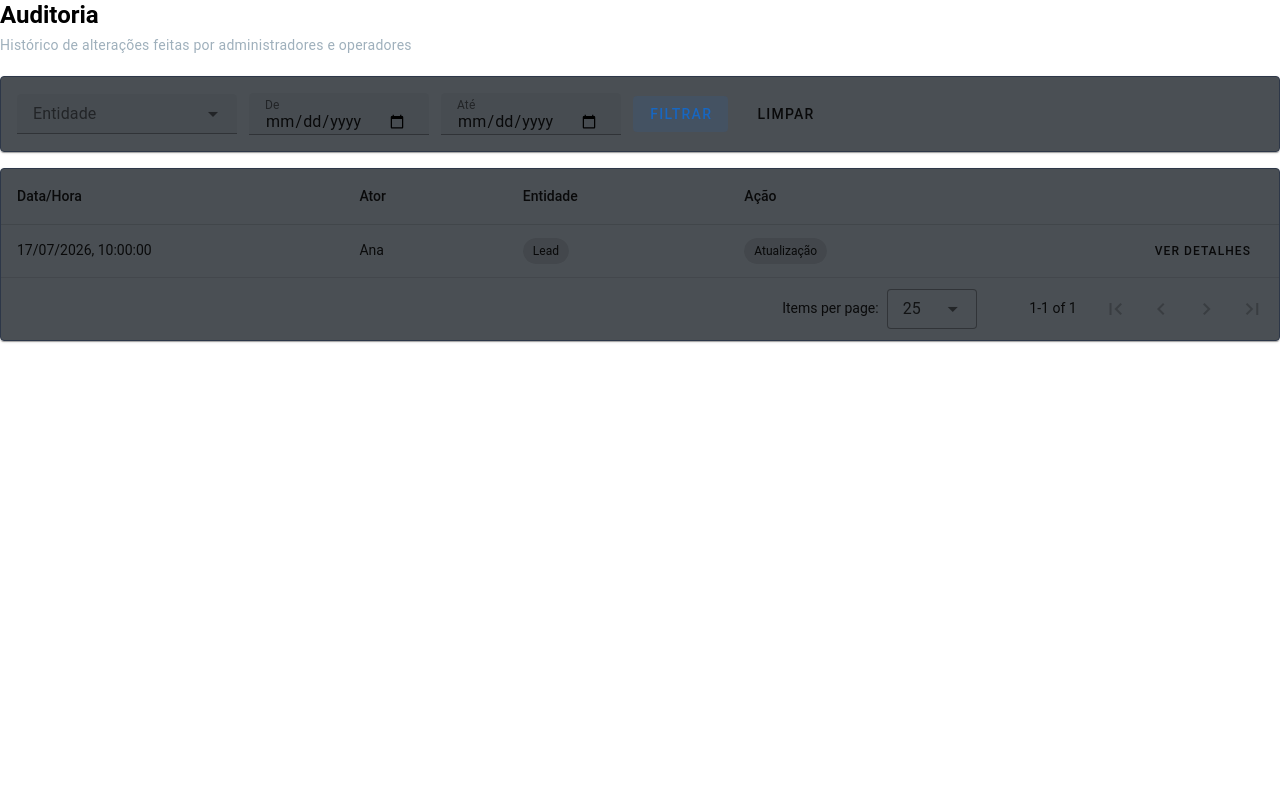
Test: AuditLogView › abre o dialog de detalhes com as alterações em JSON
This screenshot has width=1280, height=800.
Click the button "Ver detalhes" at (1202, 251), box 1142,237 -> 1263,265
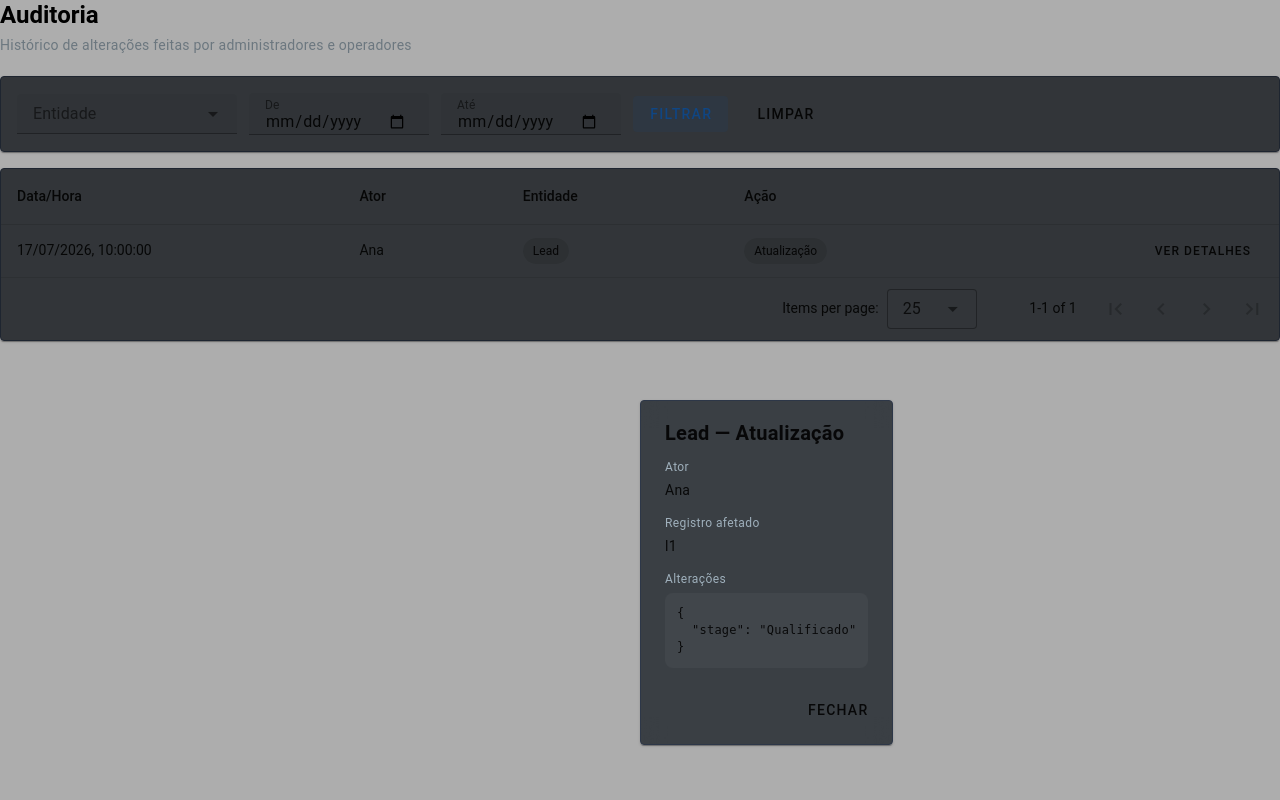
Check: the text "Qualificado" is shown, box 677,606 -> 856,654
